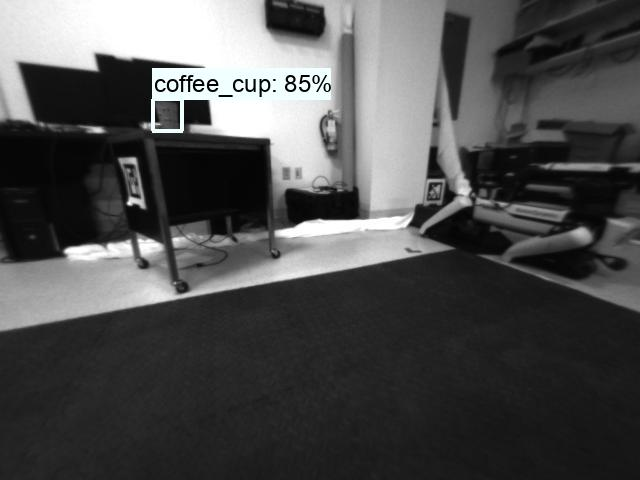coffee_cup: (151, 97, 182, 131)
